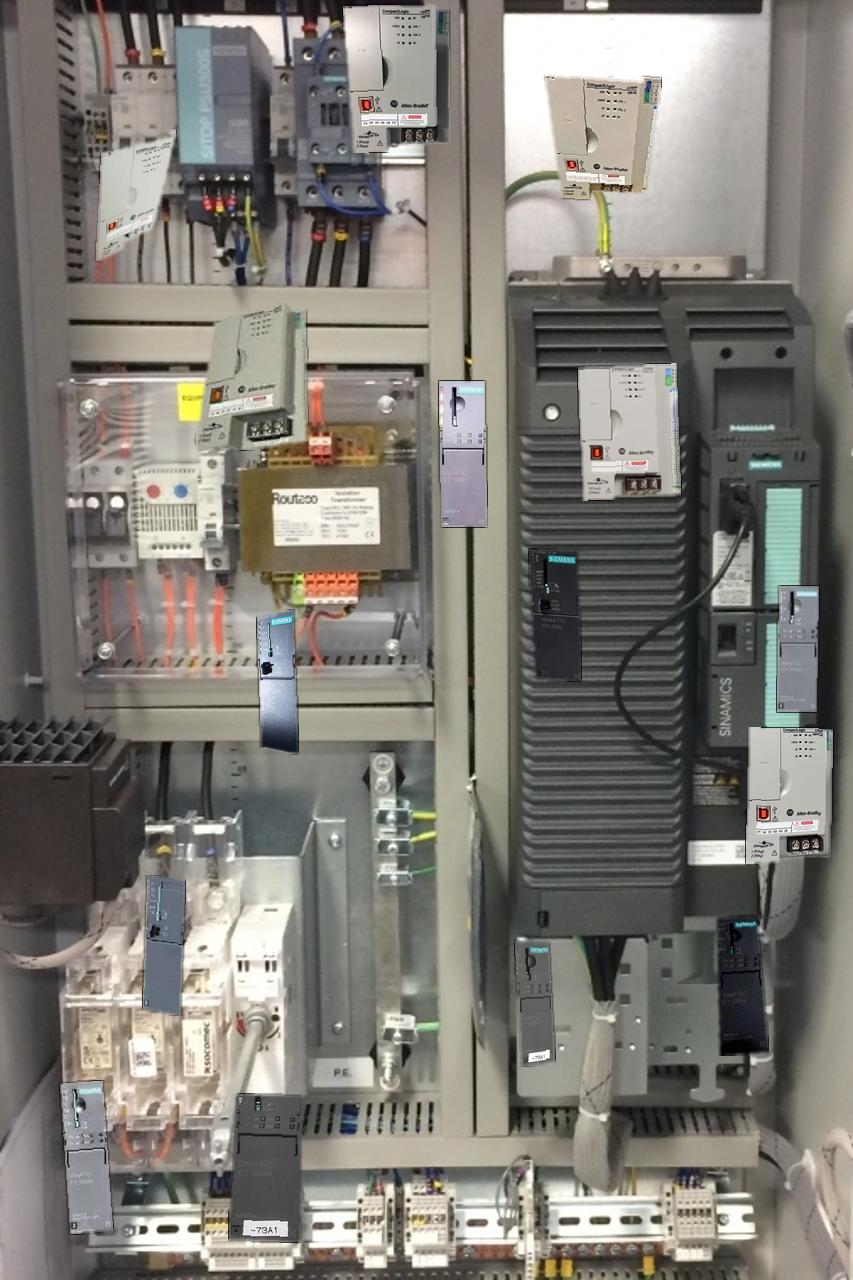AllenBradley: (196, 302, 306, 449), (343, 5, 449, 152), (545, 76, 660, 198), (578, 363, 680, 500), (746, 727, 832, 863), (97, 129, 175, 260)
Siemens: (529, 549, 580, 680), (143, 875, 184, 1015), (257, 609, 297, 752)
